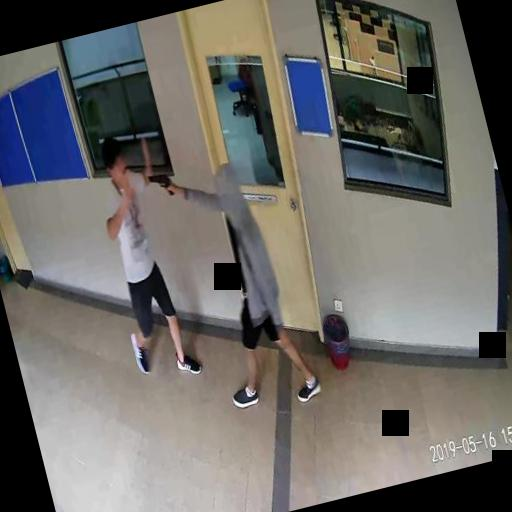Handgun: (146, 168, 174, 200)
